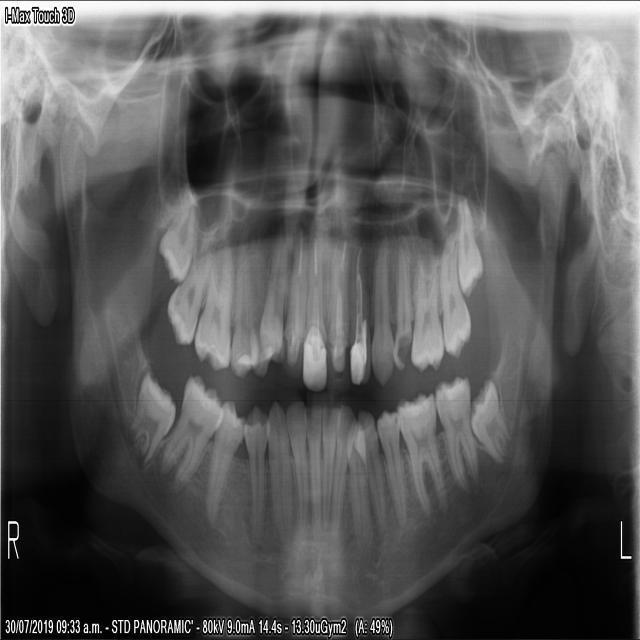LCD: (343, 408, 370, 552)
LCU: (368, 231, 394, 391)
LID: (329, 396, 356, 543), (319, 398, 340, 534)
LIU: (323, 231, 348, 393), (347, 231, 372, 391)
LMD: (395, 382, 448, 518), (430, 366, 481, 498), (466, 366, 513, 468)
LMU: (436, 227, 473, 360), (408, 247, 445, 376), (453, 189, 485, 298)
LPMD: (352, 398, 388, 534), (373, 402, 406, 530)
LPMU: (390, 226, 412, 376)
RCD: (264, 392, 294, 550)
RCU: (256, 225, 289, 366)
RID: (282, 395, 308, 529), (302, 397, 320, 537)
RIU: (299, 227, 327, 395), (280, 226, 306, 379)
RMD: (154, 368, 224, 499), (123, 364, 177, 473)
RMU: (190, 240, 233, 374), (164, 242, 212, 353), (154, 198, 196, 289)
RPMD: (201, 391, 244, 534), (238, 394, 269, 547)
RPMU: (227, 239, 257, 381), (246, 239, 272, 380)
